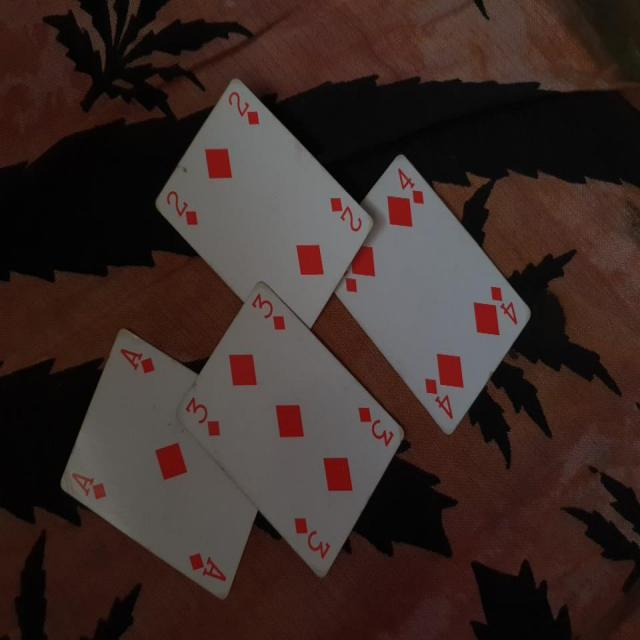2 Diamonds: (148, 73, 377, 332)
3 Diamonds: (172, 277, 407, 584)
4 Diamonds: (332, 140, 530, 433)
A Diamonds: (57, 322, 264, 604)
